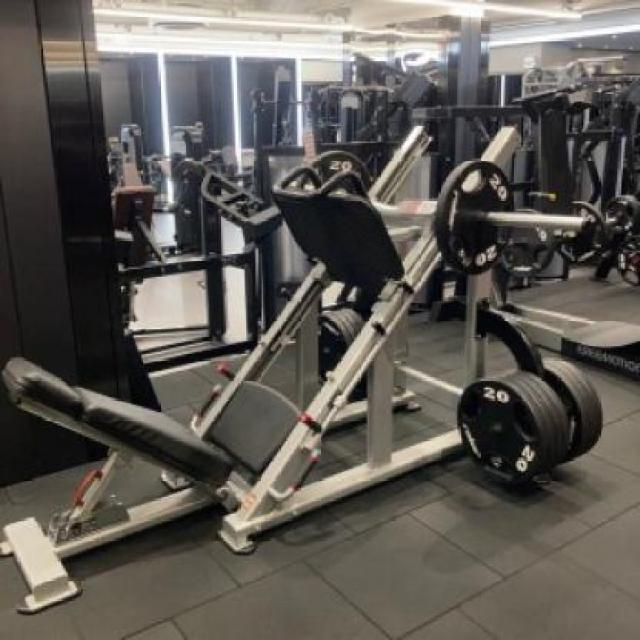leg press: (4, 63, 638, 640)
